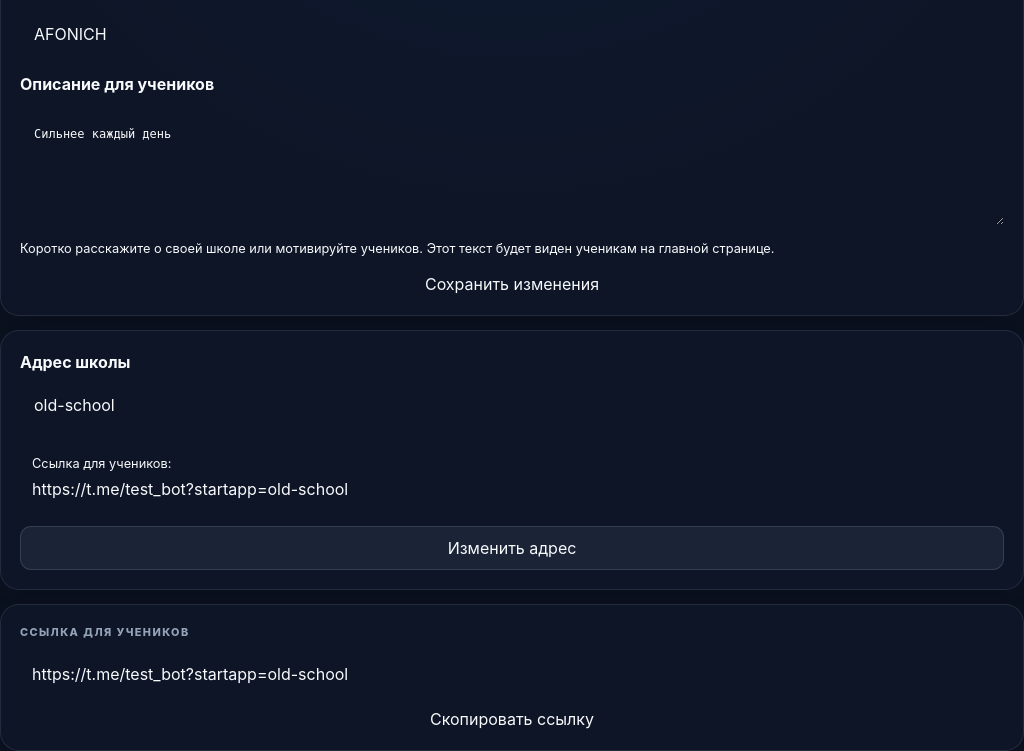
it: настройки школы › confirms slug change and updates the share link after success
The image size is (1024, 751).
(page scrolled)
Step 1. Replace the text in the field labelled "Адрес школы" with "new-school" → (512, 405), box [20,381,1004,429]
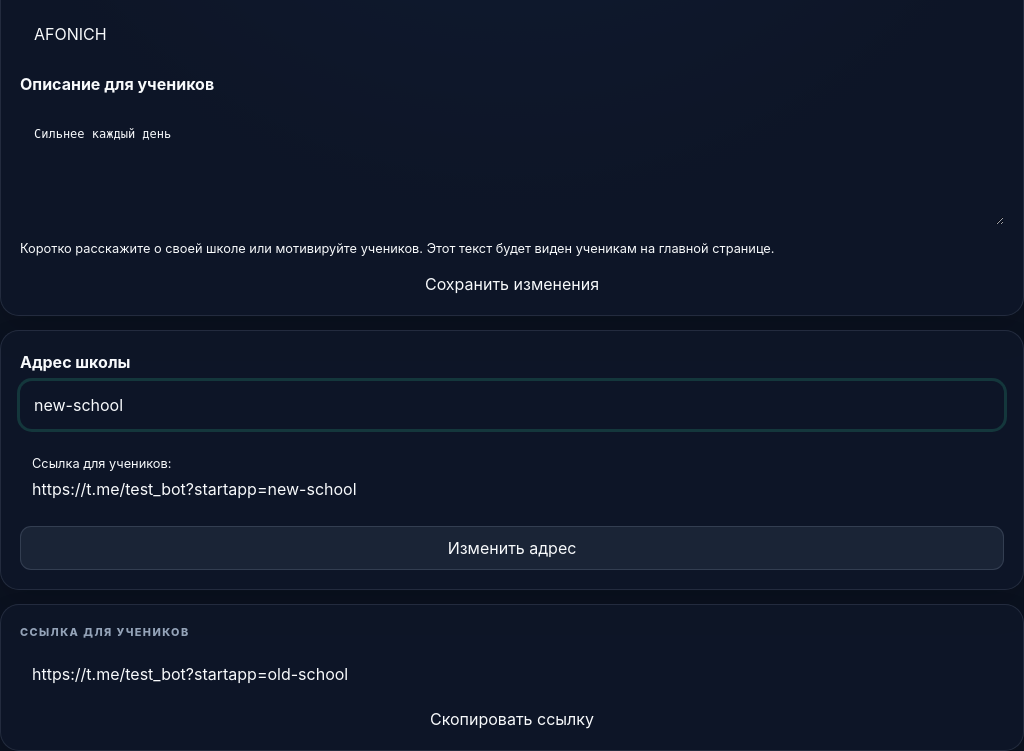
Step 2. Click the button "Изменить адрес" → (512, 548), box [20,526,1004,570]
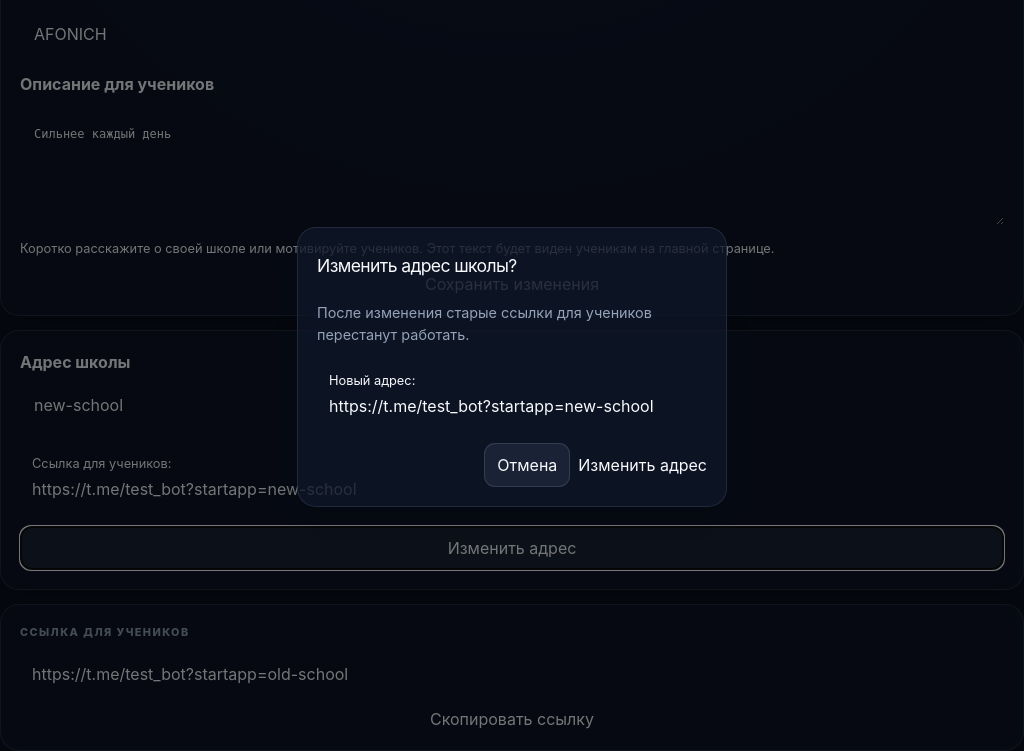
Expected: the dialog shows "После изменения старые ссылки", [317,304,652,343]
Step 3. Click the button "Изменить адрес" → (643, 465), box [578,443,707,487]
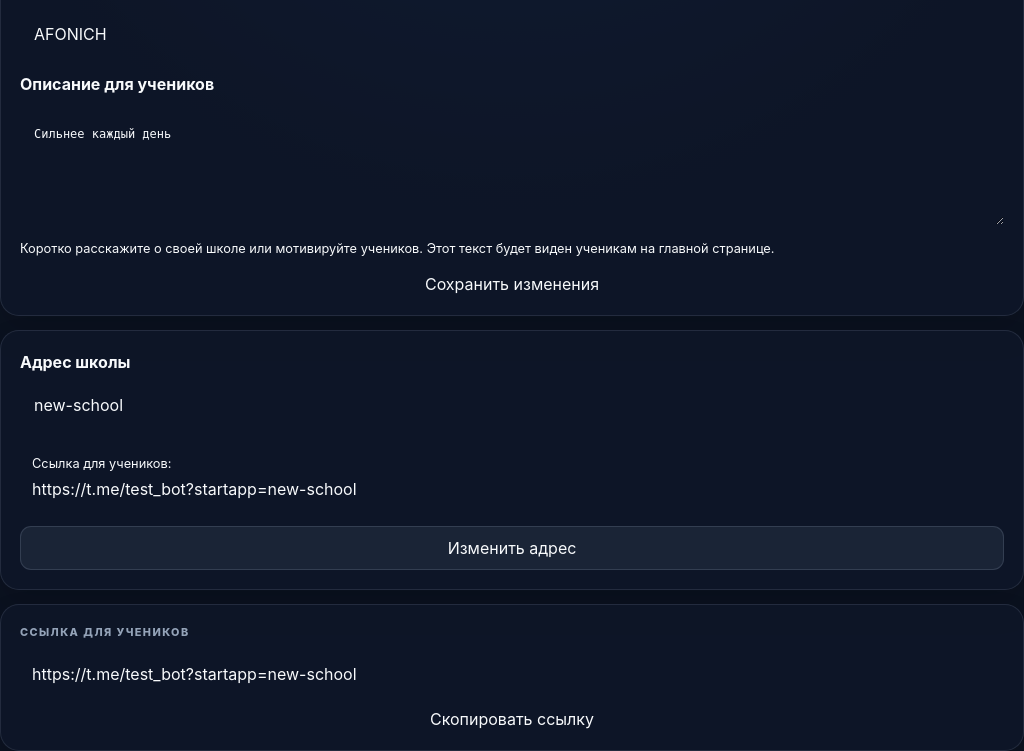
Expected: the text "https://t.me/test_bot?startapp=new-school" is shown 2 times, [32,479,356,499]; [32,664,356,684]
